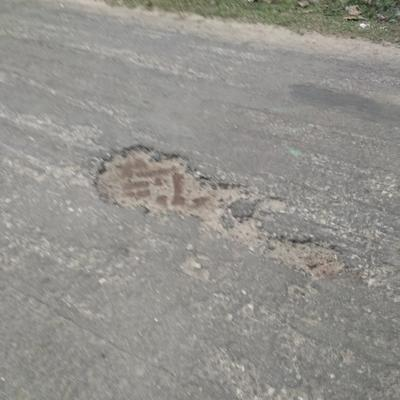Pothole: (83, 130, 356, 284)
